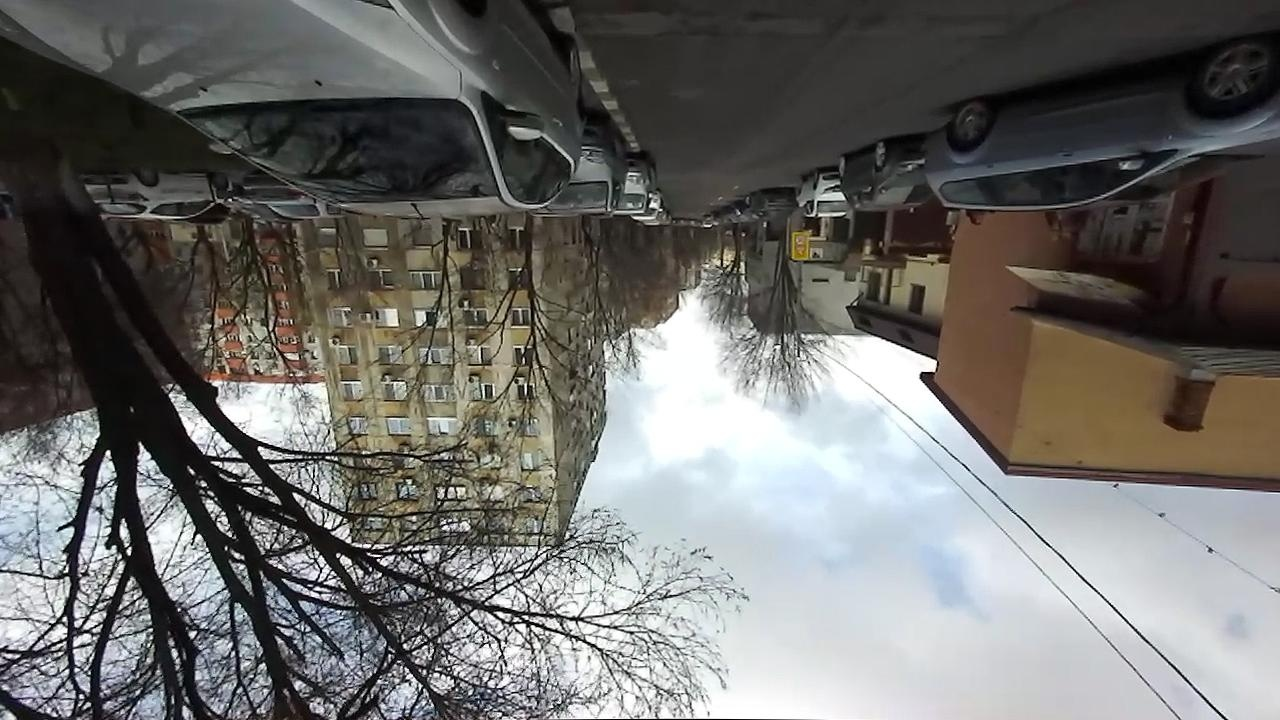pothole: (658, 0, 795, 40)
